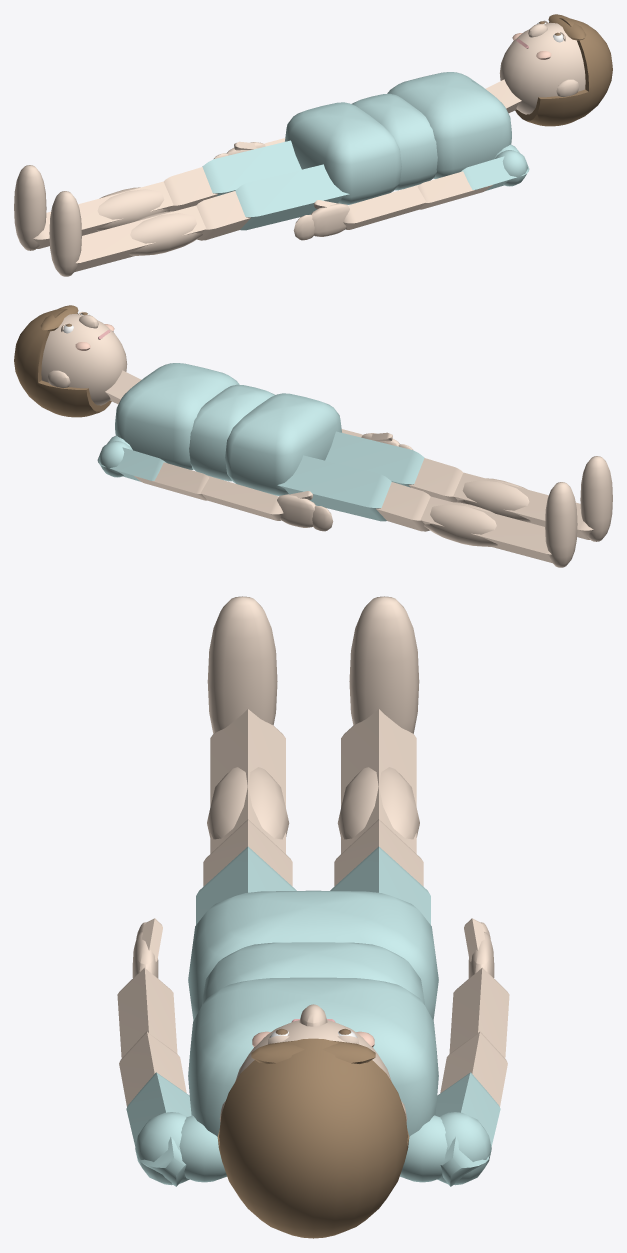
File: patient_child.glb
3 views of the same model, one above another, from view 1: azimuth 30°, elevation 25°; view 2: azimuth 150°, elevation 25°; view 3: azimuth 270°, elevation 25° (orthographic). The views are drawn at different scales.
Parts seen in each view (by area): view 1: head, pelvis, chest, thigh_l, shin_l, thigh_r, abdomen, shin_r, upper_arm_l, foot_l, foot_r, forearm_l (+2 smaller); view 2: head, pelvis, chest, thigh_r, shin_r, thigh_l, abdomen, shin_l, upper_arm_r, foot_r, foot_l, forearm_r (+2 smaller); view 3: head, chest, pelvis, upper_arm_l, upper_arm_r, shin_l, shin_r, foot_l, foot_r, abdomen, thigh_l, thigh_r (+4 smaller).
Boxes of the visible parts, x1,y1,x2,y2 form: head: (499,14,612,126); pelvis: (285,102,401,204); chest: (387,72,511,178); thigh_l: (196,164,349,240); shin_l: (75,205,206,271); thigh_r: (163,140,301,211); abdomen: (352,93,437,190); shin_r: (33,181,173,248); upper_arm_l: (417,144,529,209); foot_l: (49,191,81,276); foot_r: (14,165,46,250); forearm_l: (343,184,426,229); head: (14,305,127,417); pelvis: (225,393,341,495); chest: (115,363,239,469); thigh_r: (277,455,430,531); shin_r: (420,496,551,562); thigh_l: (325,431,463,502); abdomen: (189,384,274,481); shin_l: (453,472,593,539); upper_arm_r: (97,435,209,500); foot_r: (545,482,577,567); foot_l: (580,456,612,541); forearm_r: (200,475,283,520); head: (217,1004,409,1238); chest: (188,977,438,1136); pelvis: (188,890,438,1020); upper_arm_l: (119,1031,227,1186); upper_arm_r: (399,1031,507,1186); shin_l: (207,709,289,853); shin_r: (337,709,419,853); foot_l: (207,596,277,733); foot_r: (349,596,419,733); abdomen: (202,942,424,1004); thigh_l: (196,819,296,924); thigh_r: (330,819,430,924).
Bounding box in the file's own units: 1.21 × 0.2402 × 0.3596.
